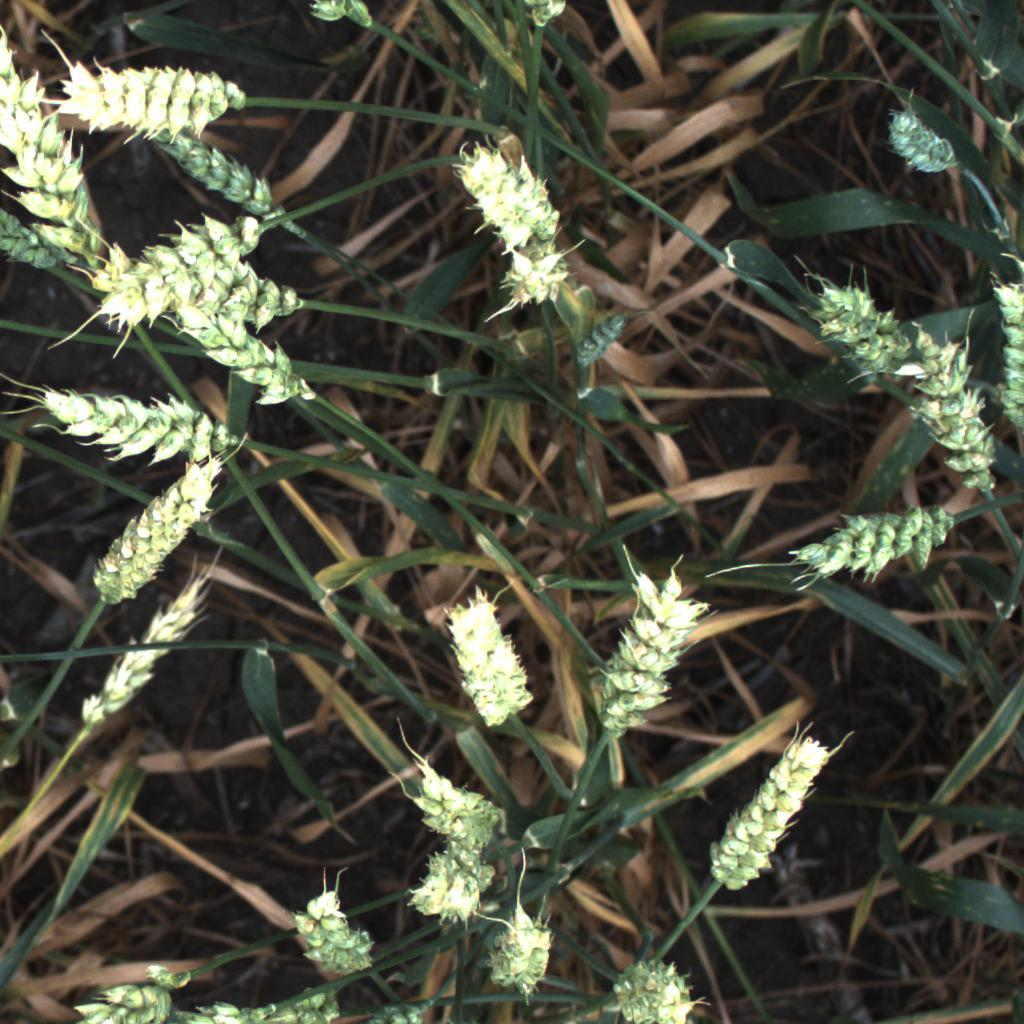0-0: (68, 552, 227, 743), (89, 187, 293, 333), (81, 448, 237, 622), (704, 719, 845, 907), (778, 257, 950, 407), (10, 370, 247, 476), (576, 562, 709, 749), (903, 315, 1018, 524), (0, 26, 97, 264), (791, 485, 982, 599), (104, 250, 322, 338), (154, 305, 327, 411), (441, 582, 549, 739), (451, 125, 573, 262), (58, 61, 252, 142), (138, 119, 291, 220), (385, 764, 528, 863), (28, 955, 232, 1024), (259, 875, 382, 988), (373, 835, 496, 945), (589, 939, 716, 1024), (474, 896, 571, 999), (872, 94, 972, 187), (492, 238, 584, 320), (989, 262, 1024, 447), (264, 966, 365, 1024), (0, 209, 64, 297), (353, 996, 475, 1024), (176, 997, 284, 1024)
